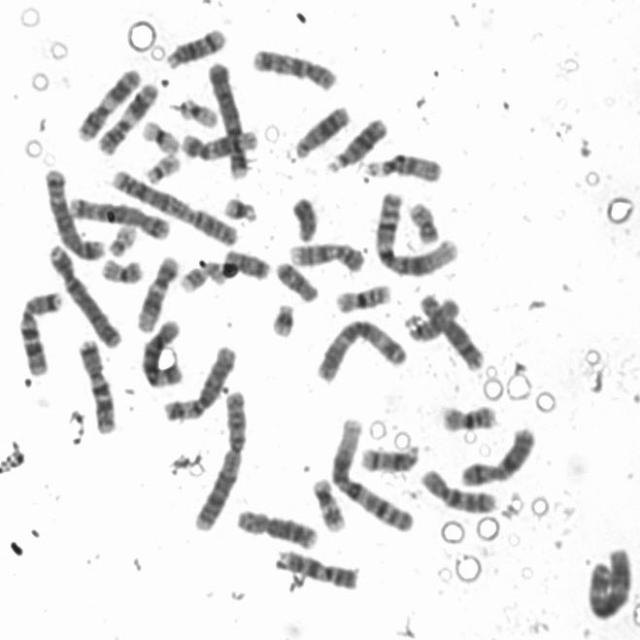A1: (327, 413, 417, 533), (370, 191, 461, 278)
A2: (108, 166, 240, 247), (190, 385, 248, 532)
A3: (312, 316, 408, 384), (583, 544, 633, 622)
B4: (46, 240, 123, 350), (205, 57, 250, 181)
B5: (42, 165, 106, 261), (65, 193, 172, 242)
C10: (249, 43, 339, 93), (416, 465, 498, 514)
C11: (73, 65, 142, 142), (94, 80, 159, 157)
C12: (134, 252, 180, 333), (178, 126, 259, 162)
C6: (160, 341, 238, 423), (138, 316, 185, 390)
C7: (15, 286, 65, 379), (74, 335, 117, 435)
C8: (416, 290, 486, 372), (233, 504, 321, 551)
C9: (273, 547, 361, 592), (286, 238, 366, 274)
D13: (324, 115, 389, 173), (289, 102, 352, 161)
D14: (162, 25, 227, 71), (356, 441, 422, 475)
D15: (402, 294, 461, 344), (360, 150, 443, 183)
E16: (332, 280, 392, 314), (436, 401, 497, 433)
E17: (309, 473, 347, 534), (178, 258, 225, 294)
E18: (273, 258, 319, 304), (217, 245, 271, 282)
F19: (138, 118, 181, 156), (176, 94, 218, 130)
F20: (405, 198, 442, 246), (98, 254, 145, 284)
G21: (220, 192, 260, 224), (266, 298, 297, 339)
G22: (142, 150, 182, 184), (106, 222, 140, 258)
X: (457, 424, 537, 488)
Y: (290, 194, 320, 242)
